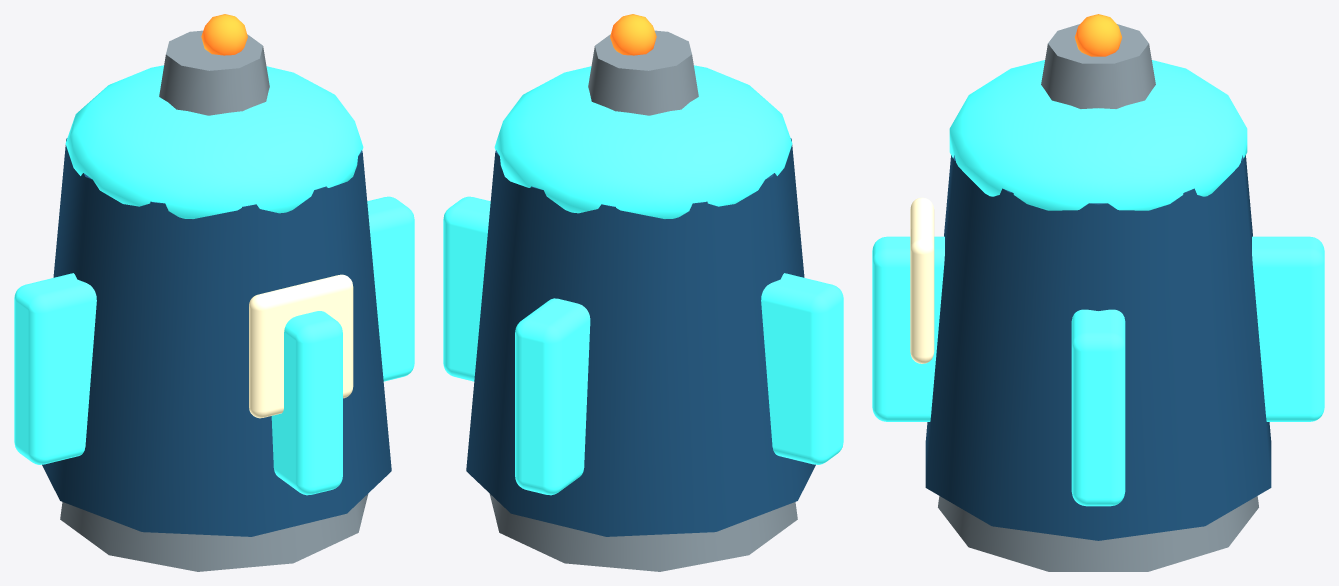
File: boosted.glb
3 renders of one model, left to right at view 1: azimuth 30°, elevation 25°; view 2: azimuth 150°, elevation 25°; view 3: azimuth 270°, elevation 25°, orthographic.
Visible parts, largest first — view 1: tall cobalt canister, coolant fin (×3), cyan upper dome, steel heel, indicator, pressure valve, ember tip; view 2: tall cobalt canister, coolant fin (×3), cyan upper dome, steel heel, pressure valve, ember tip; view 3: tall cobalt canister, coolant fin (×3), cyan upper dome, steel heel, pressure valve, indicator, ember tip.
Part boxes in pixels (left/top/right/bottom): tall cobalt canister: left=42, top=138, right=391, bottom=536; coolant fin (×3): left=14, top=196, right=414, bottom=495; cyan upper dome: left=65, top=65, right=363, bottom=218; steel heel: left=60, top=494, right=368, bottom=571; indicator: left=249, top=274, right=353, bottom=418; pressure valve: left=159, top=30, right=269, bottom=115; ember tip: left=201, top=14, right=247, bottom=55; tall cobalt canister: left=466, top=138, right=815, bottom=536; coolant fin (×3): left=443, top=196, right=843, bottom=495; cyan upper dome: left=494, top=65, right=792, bottom=218; steel heel: left=489, top=494, right=797, bottom=571; pressure valve: left=588, top=30, right=698, bottom=115; ember tip: left=610, top=14, right=656, bottom=55; tall cobalt canister: left=925, top=155, right=1271, bottom=540; coolant fin (×3): left=872, top=236, right=1324, bottom=506; cyan upper dome: left=949, top=60, right=1247, bottom=210; steel heel: left=938, top=496, right=1258, bottom=571; pressure valve: left=1041, top=24, right=1155, bottom=108; indicator: left=910, top=197, right=934, bottom=363; ember tip: left=1074, top=14, right=1122, bottom=56.
Bounding box in the file's own units: 0.76 × 0.92 × 0.76.
